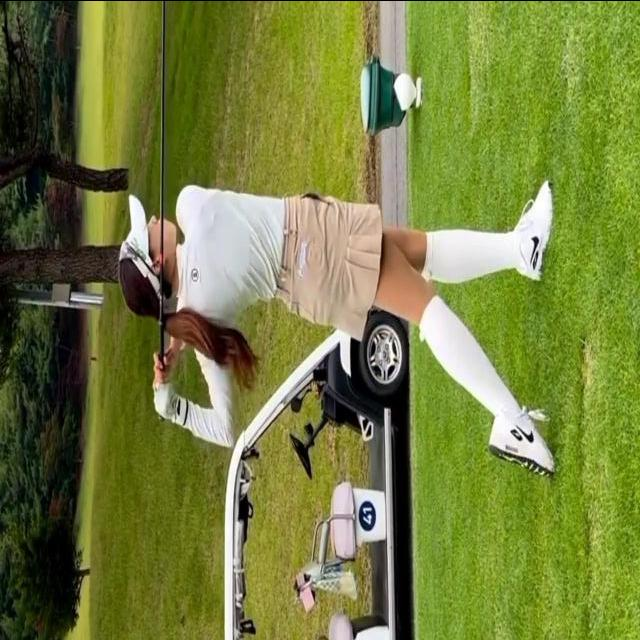golf club-handle: (156, 0, 184, 426)
